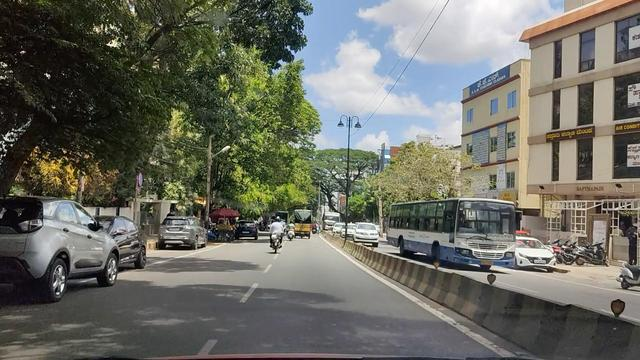LMV: (0, 200, 139, 297), (268, 217, 289, 258)
